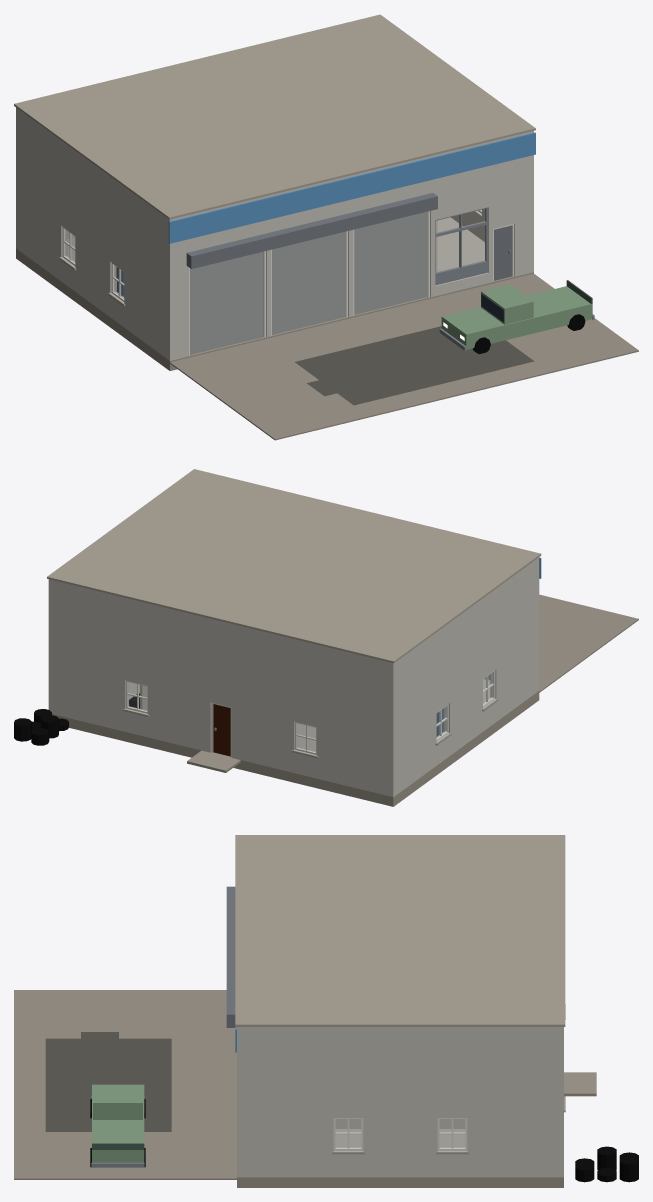
Rendered from garage.glb.
3 renders of one model, top to bottom at view 1: azimuth 30°, elevation 25°; view 2: azimuth 150°, elevation 25°; view 3: azimuth 270°, elevation 25°, orthographic. The views are drawn at different scales.
Visible parts, largest first — view 1: LOD0, LEAF0; view 2: LOD0, LEAF1; view 3: LOD0.
Part boxes in pixels (x1=…): LOD0: x1=14, y1=14, x2=638, y2=440; LEAF0: x1=494, y1=225, x2=511, y2=280; LOD0: x1=14, y1=469, x2=638, y2=806; LEAF1: x1=213, y1=704, x2=230, y2=756; LOD0: x1=14, y1=835, x2=638, y2=1187.
Size of what is drawn, in the model's own units: 15.25 by 6.08 by 21.02.
